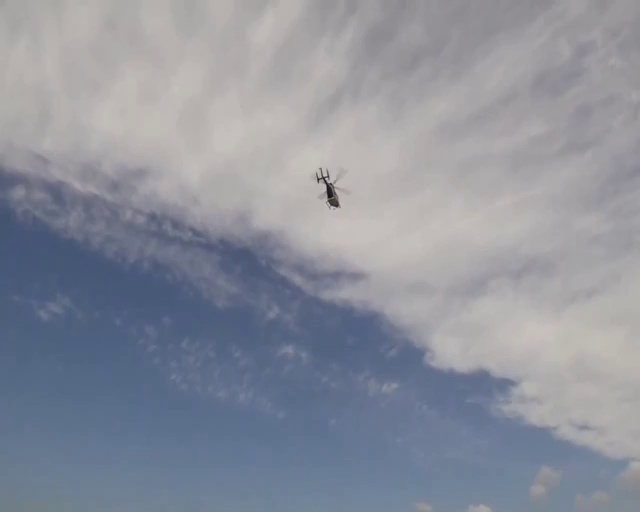HELICOPTER: (313, 166, 349, 209)
